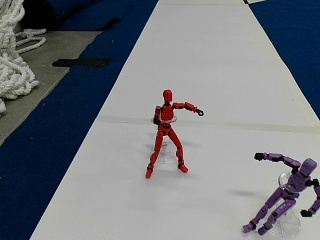pedestrian: (245, 153, 318, 235), (146, 89, 203, 177)
